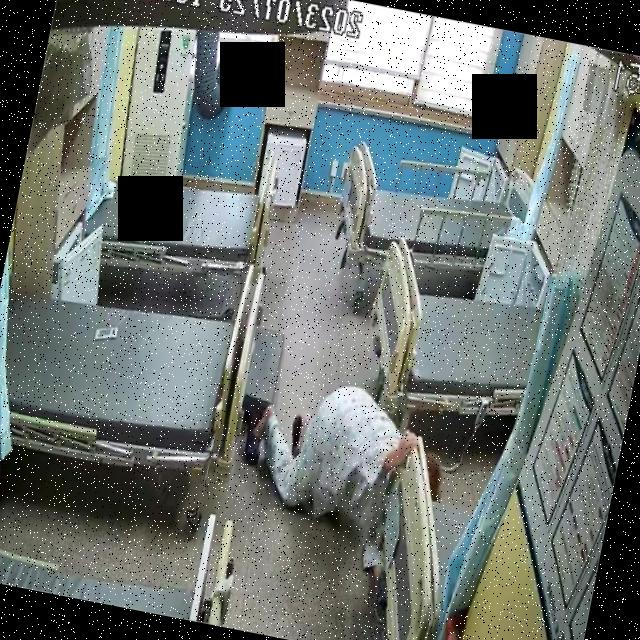bed: (0, 268, 243, 483), (350, 234, 552, 441), (332, 137, 537, 291), (78, 138, 279, 292)
fall: (225, 367, 445, 595)
patient: (224, 367, 446, 595)
